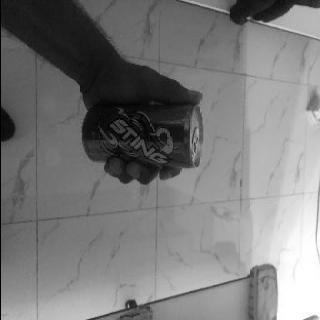alumunium_can: (80, 102, 204, 170)
